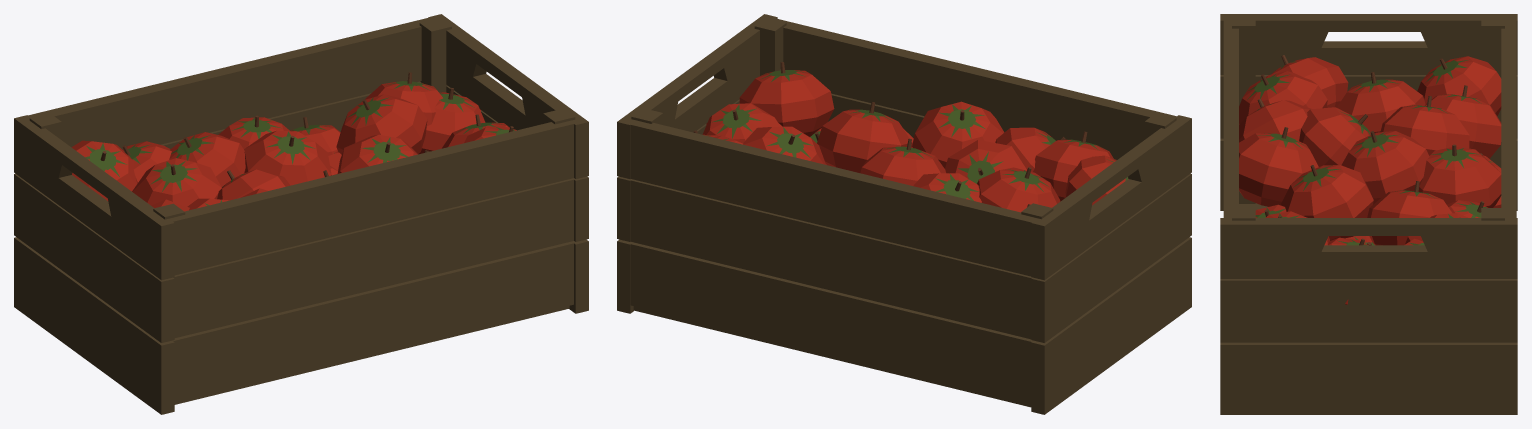
The model's file is WoodenCrateTomato_1.fbx.
3 renders of one model, left to right at view 1: azimuth 30°, elevation 25°; view 2: azimuth 150°, elevation 25°; view 3: azimuth 270°, elevation 25°, orthographic.
Parts seen in each view (by area): view 1: WoodenCrateTomato_1; view 2: WoodenCrateTomato_1; view 3: WoodenCrateTomato_1.
Part boxes in pixels (x1,y1,x2,y2): WoodenCrateTomato_1: (14, 14, 588, 414); WoodenCrateTomato_1: (617, 14, 1191, 414); WoodenCrateTomato_1: (1220, 14, 1517, 414).
Bounding box in the file's own units: 110 × 46.94 × 65.61.
